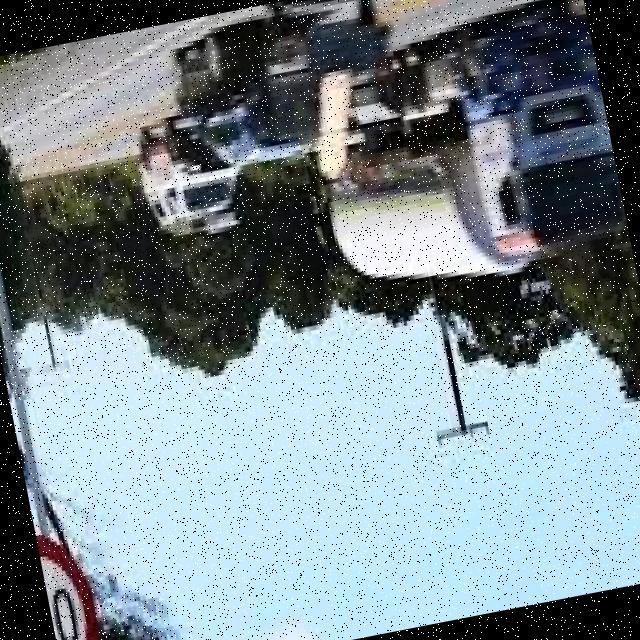speed_limit_100: (35, 521, 120, 640)
